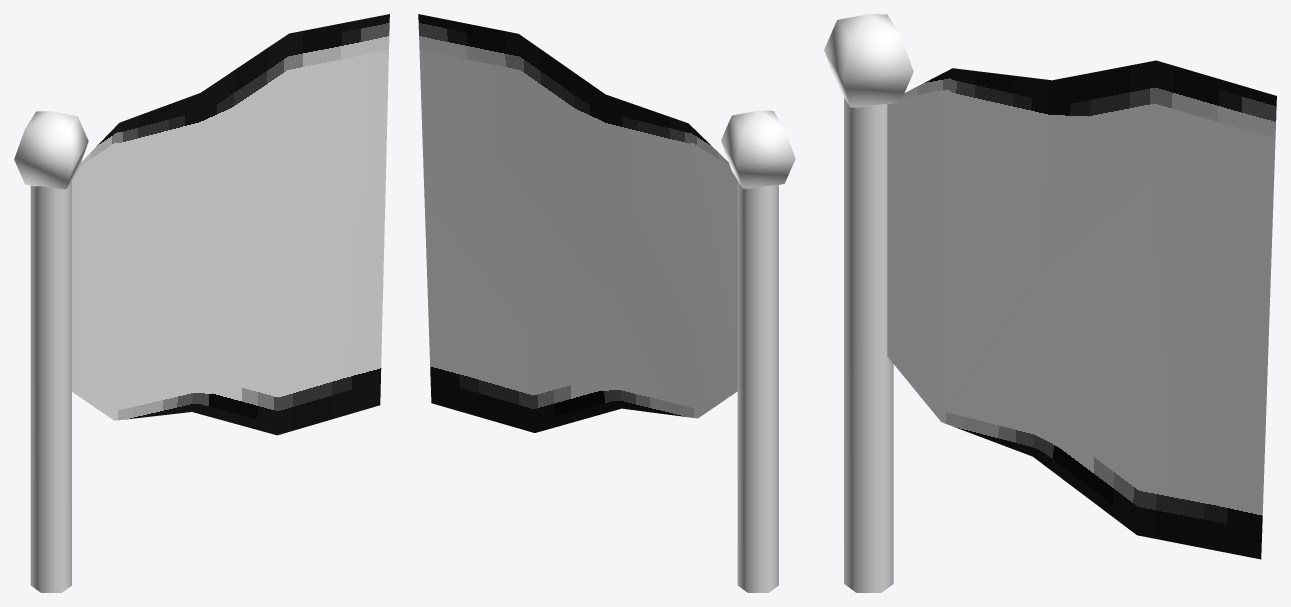
Rendered from MiniatureBattleshipFlag.dae.
3 views of the same model, side by side, from view 1: azimuth 30°, elevation 25°; view 2: azimuth 150°, elevation 25°; view 3: azimuth 330°, elevation 25° (orthographic). The views are drawn at different scales.
Visible parts, largest first — view 1: MiniatureBattleshipFlag; view 2: MiniatureBattleshipFlag; view 3: MiniatureBattleshipFlag.
Boxes of the visible parts, box(x1,y1,x2,y2) form: MiniatureBattleshipFlag: box(14, 14, 389, 592); MiniatureBattleshipFlag: box(418, 14, 795, 592); MiniatureBattleshipFlag: box(824, 14, 1276, 592).
Size of the model in its own units: 135 by 169 by 26.74.
1 material, 1 textured.
